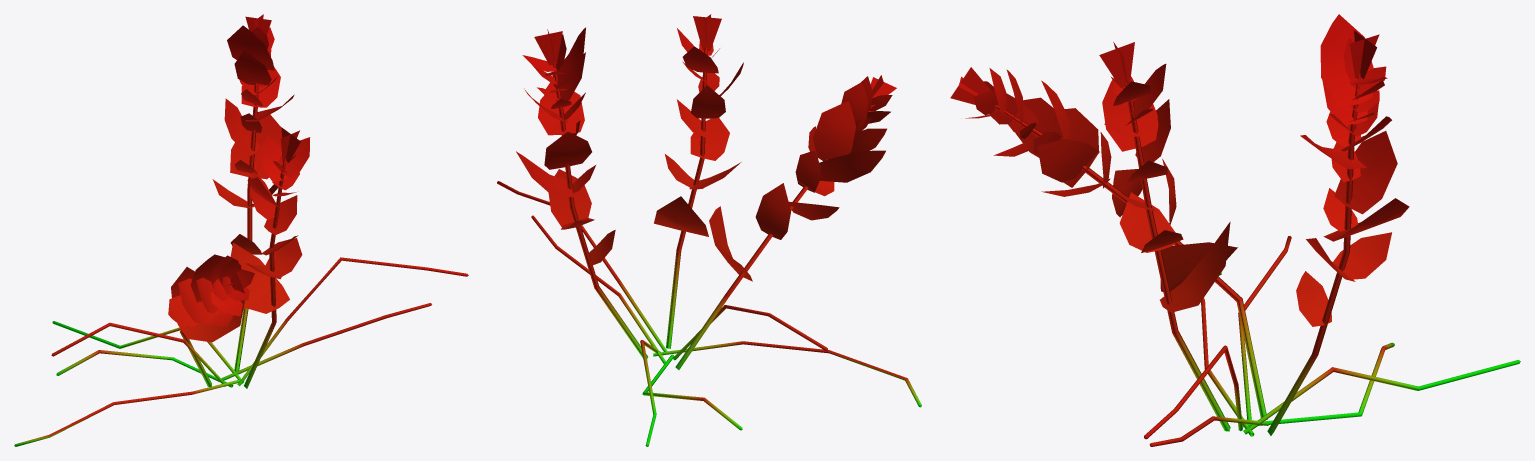
File: Rubber Bush_LOD5_Var13_xffhfekia.fbx
The picture shows the model from 3 angles, left to right: view 1: azimuth 30°, elevation 25°; view 2: azimuth 150°, elevation 25°; view 3: azimuth 270°, elevation 25°; orthographic projection. The views are drawn at different scales.
Visible parts, largest first — view 1: _je3a_Var13_LOD5; view 2: _je3a_Var13_LOD5; view 3: _je3a_Var13_LOD5.
Boxes of the visible parts, x1,y1,x2,y2 form: _je3a_Var13_LOD5: (14, 14, 468, 446); _je3a_Var13_LOD5: (497, 14, 921, 446); _je3a_Var13_LOD5: (950, 14, 1520, 446).
Size of the model in its own units: 119 by 87.52 by 101.
